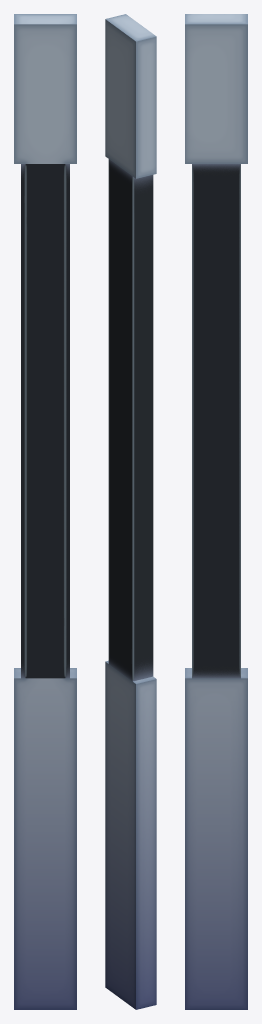
File: wall3_mid_low.fbx
3 views of the same model, side by side, from view 1: azimuth 90°, elevation 25°; view 2: azimuth 210°, elevation 25°; view 3: azimuth 270°, elevation 25° (orthographic).
Parts seen in each view (by area): view 1: line_low; view 2: line_low; view 3: line_low.
Part boxes in pixels (box(x1,y1,x2,y2)): line_low: box(14, 14, 76, 1009); line_low: box(105, 14, 156, 1009); line_low: box(185, 14, 247, 1009).
Bounding box in the file's own units: 58.05 × 2600 × 150.
